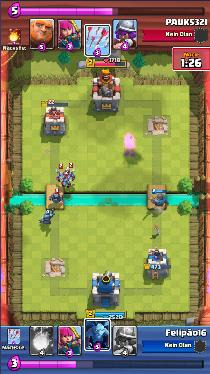ally_knight: (149, 194, 168, 208)
ally_mini_pekka: (41, 213, 52, 225)
enemy_mini_pekka: (48, 192, 63, 204)
enemy_minion: (64, 167, 74, 178), (55, 171, 65, 181), (62, 178, 71, 187)
